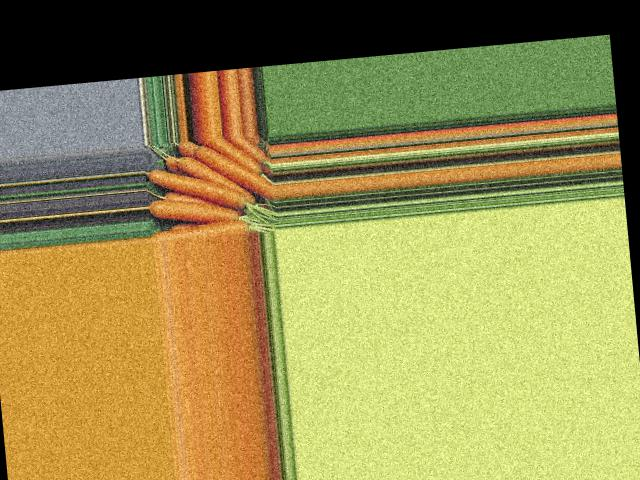carrot: (192, 137, 274, 206)
